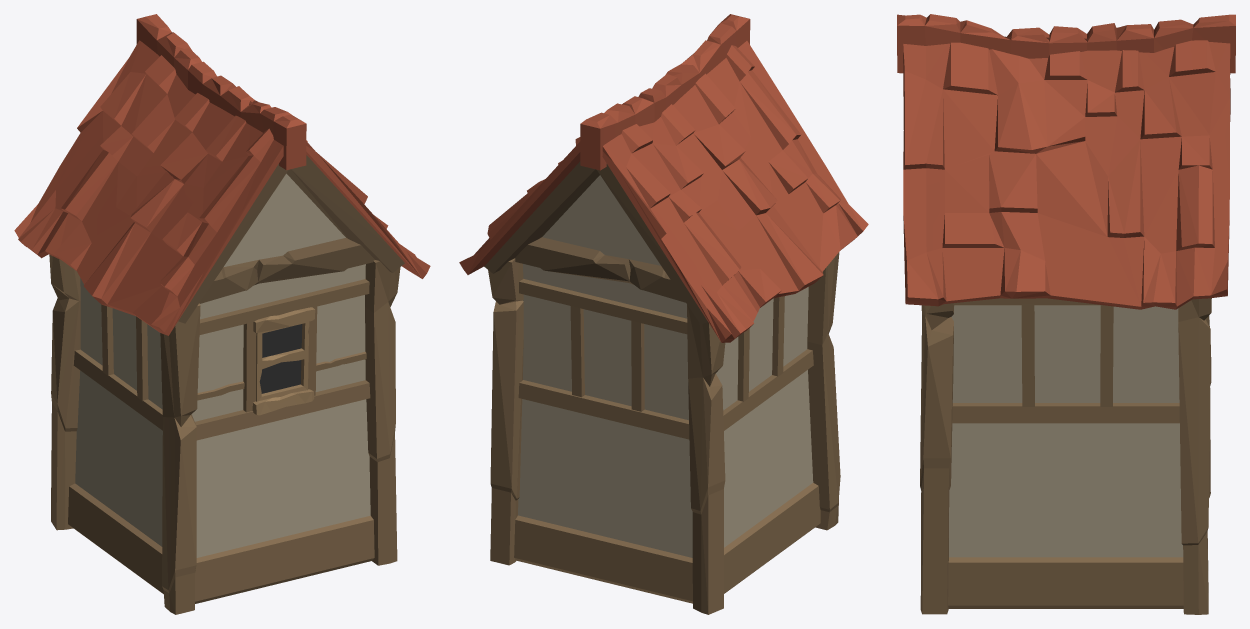
The model's file is SM_Bld_House_RoomTall_05.gltf.
3 renders of one model, left to right at view 1: azimuth 30°, elevation 25°; view 2: azimuth 150°, elevation 25°; view 3: azimuth 270°, elevation 25°, orthographic. The views are drawn at different scales.
Visible parts, largest first — view 1: SM_Bld_House_RoomTall_05; view 2: SM_Bld_House_RoomTall_05; view 3: SM_Bld_House_RoomTall_05.
Part boxes in pixels (x1,y1,x2,y2): SM_Bld_House_RoomTall_05: [14, 14, 430, 614]; SM_Bld_House_RoomTall_05: [459, 14, 868, 614]; SM_Bld_House_RoomTall_05: [897, 14, 1235, 614].
Size of the model in its own units: 3.6 by 5.69 by 3.26.
1 material, 1 textured.
